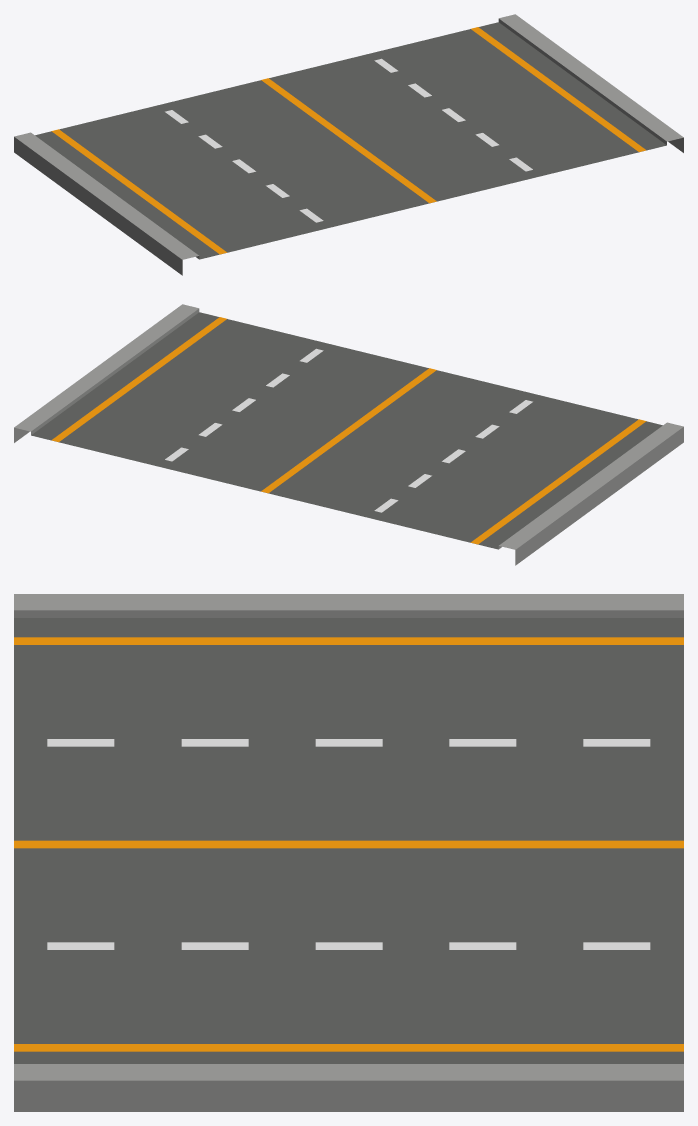
File: Road_B_2L_2_1.fbx
The picture shows the model from 3 angles, top to bottom: view 1: azimuth 30°, elevation 25°; view 2: azimuth 150°, elevation 25°; view 3: azimuth 270°, elevation 25°; orthographic projection. The views are drawn at different scales.
Visible parts, largest first — view 1: Road_B_2L_2_1; view 2: Road_B_2L_2_1; view 3: Road_B_2L_2_1.
Part boxes in pixels (box(x1,y1,x2,y2)): Road_B_2L_2_1: box(14, 14, 683, 275); Road_B_2L_2_1: box(14, 304, 683, 565); Road_B_2L_2_1: box(14, 594, 683, 1111).
Size of the model in its own units: 1375 by 41.48 by 800.
